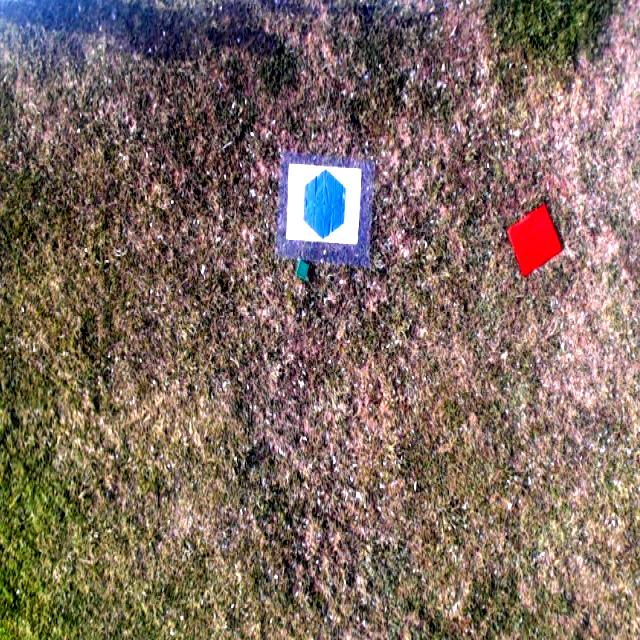blue_hexagon: (303, 168, 346, 239)
red_square: (508, 204, 561, 275)
